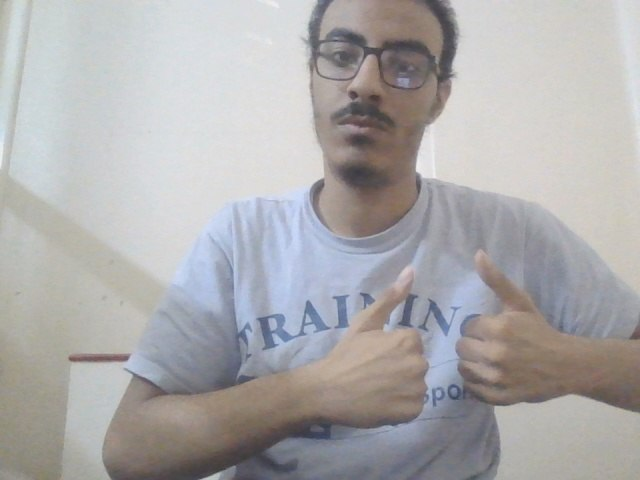Help: (326, 241, 582, 433)
